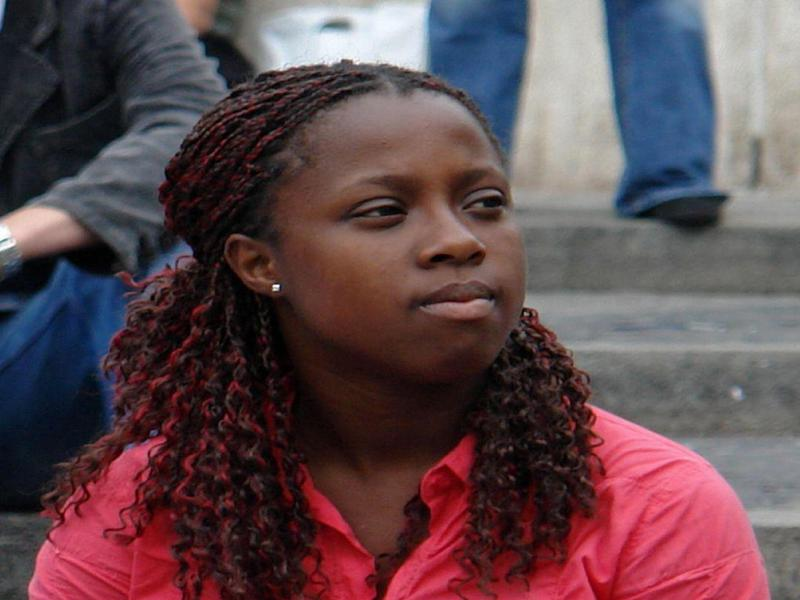person: (35, 61, 778, 599)
